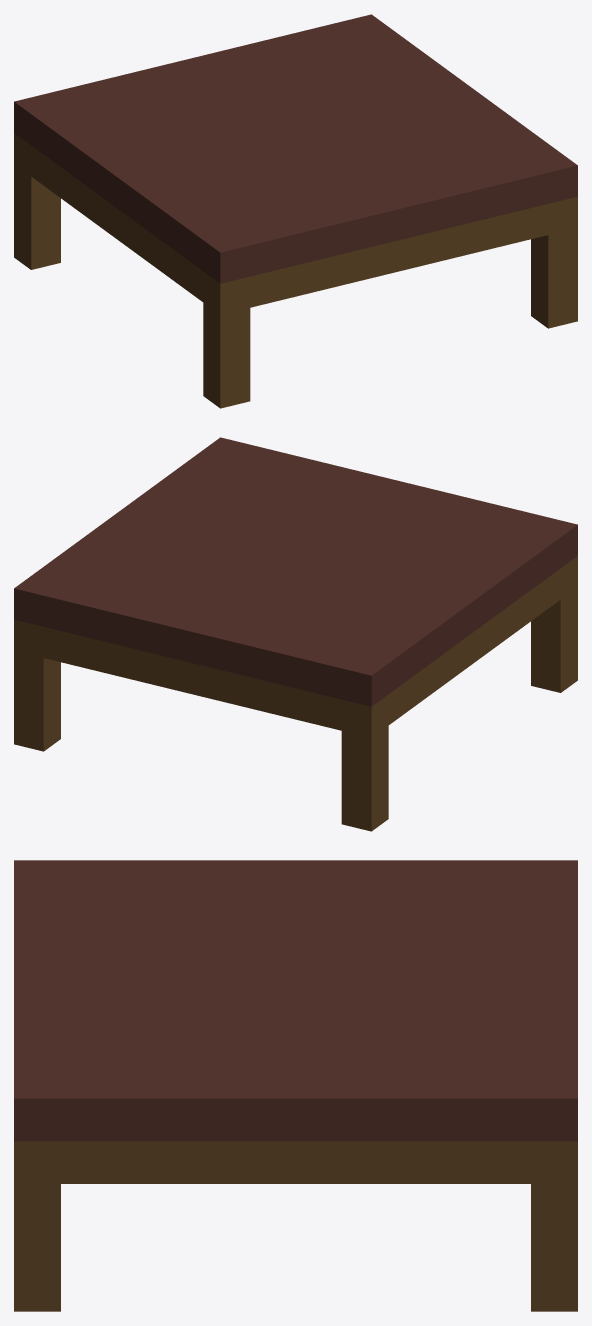
The model's file is tutorial.vox-1-dining-table.obj.
3 renders of one model, top to bottom at view 1: azimuth 30°, elevation 25°; view 2: azimuth 150°, elevation 25°; view 3: azimuth 270°, elevation 25°, orthographic. The views are drawn at different scales.
Visible parts, largest first — view 1: dining-table; view 2: dining-table; view 3: dining-table.
Part boxes in pixels (x1,y1,x2,y2): dining-table: [14, 14, 577, 408]; dining-table: [14, 437, 577, 831]; dining-table: [14, 860, 577, 1311].
Bounding box in the file's own units: 2.4 × 1 × 2.4.
Materials: 1 (1 with a texture image).
